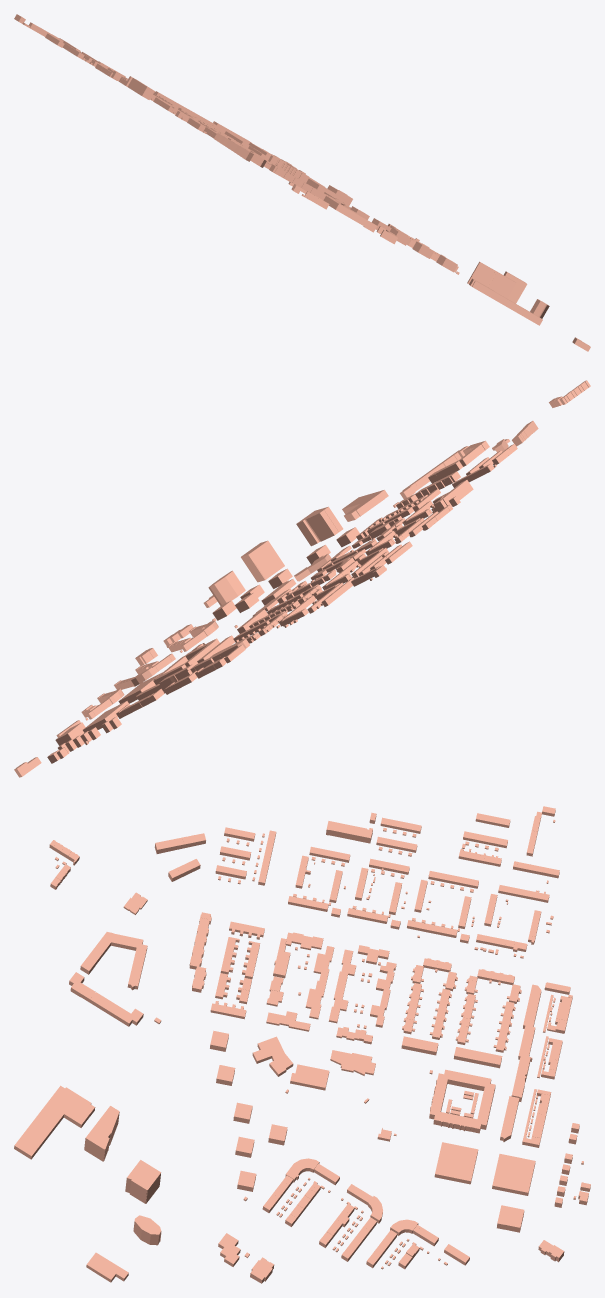
3 views of the same model, one above another, from view 1: azimuth 30°, elevation 25°; view 2: azimuth 150°, elevation 25°; view 3: azimuth 270°, elevation 25° (orthographic). The views are drawn at different scales.
Size of the model in its own units: 533 by 384 by 683.
